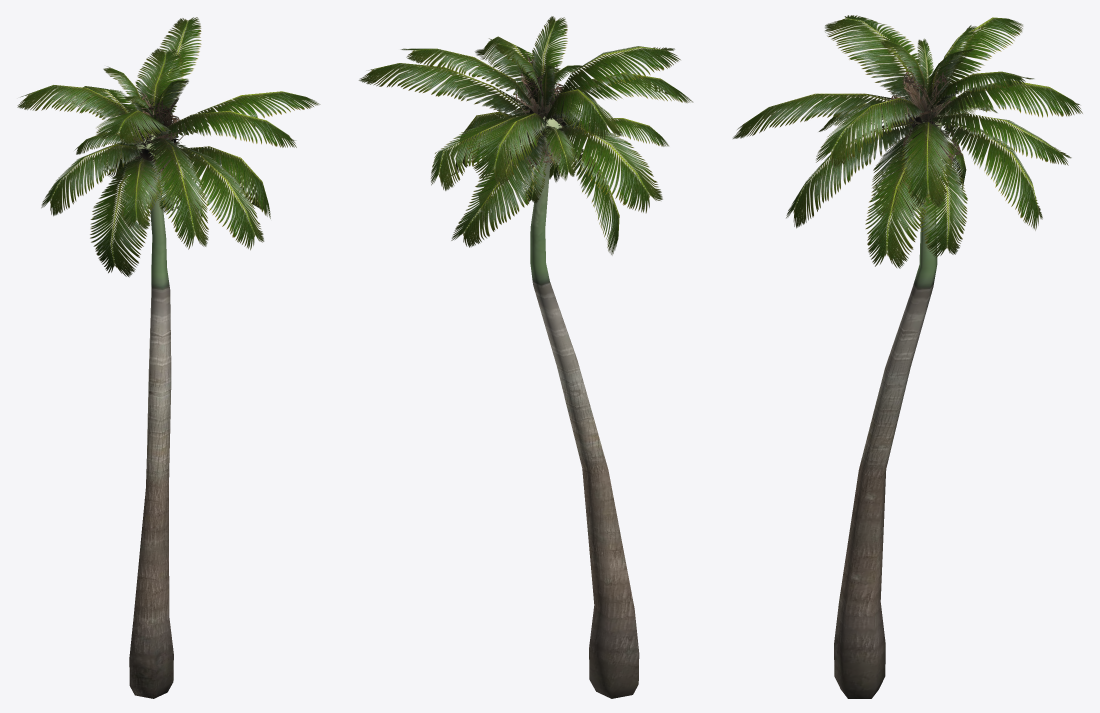
Rendered from Palm1_VAR5.glb.
3 views of the same model, side by side, from view 1: azimuth 30°, elevation 25°; view 2: azimuth 150°, elevation 25°; view 3: azimuth 270°, elevation 25° (orthographic). The views are drawn at different scales.
Parts seen in each view (by area): view 1: Palm1_VAR5; view 2: Palm1_VAR5; view 3: Palm1_VAR5.
Boxes of the visible parts, bbox=[...] form: Palm1_VAR5: bbox=[17, 17, 320, 698]; Palm1_VAR5: bbox=[359, 16, 693, 698]; Palm1_VAR5: bbox=[733, 15, 1082, 698].
Size of the model in its own units: 3.18 by 6.62 by 3.16.
1 material, 1 textured.
